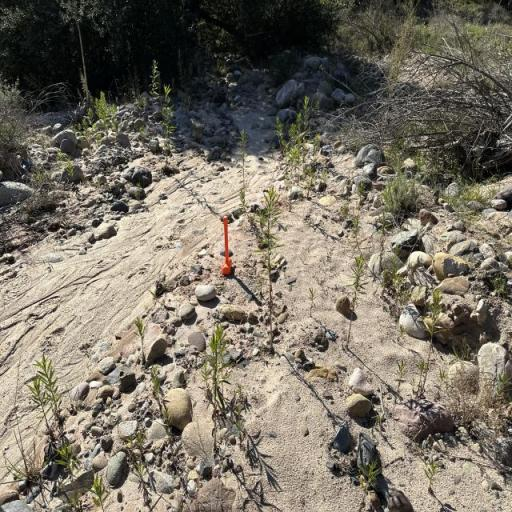mallet: (222, 215, 232, 275)
